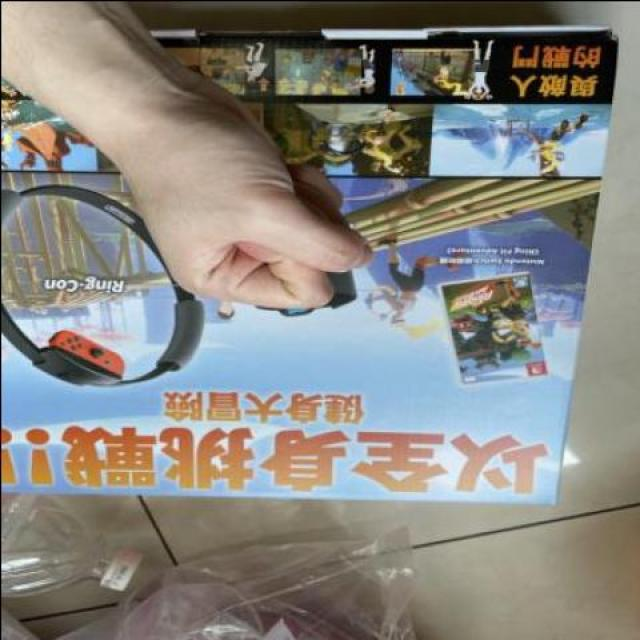fist: (103, 78, 372, 325)
